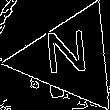N_S: (45, 31, 94, 85)
